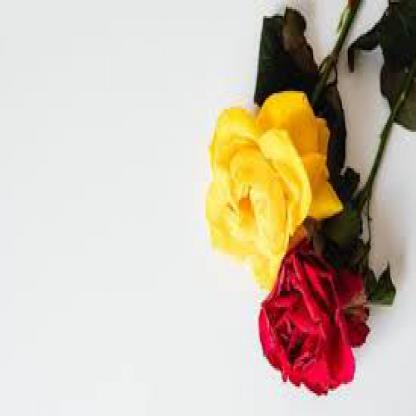Rose-Mawar: (195, 72, 375, 397)
